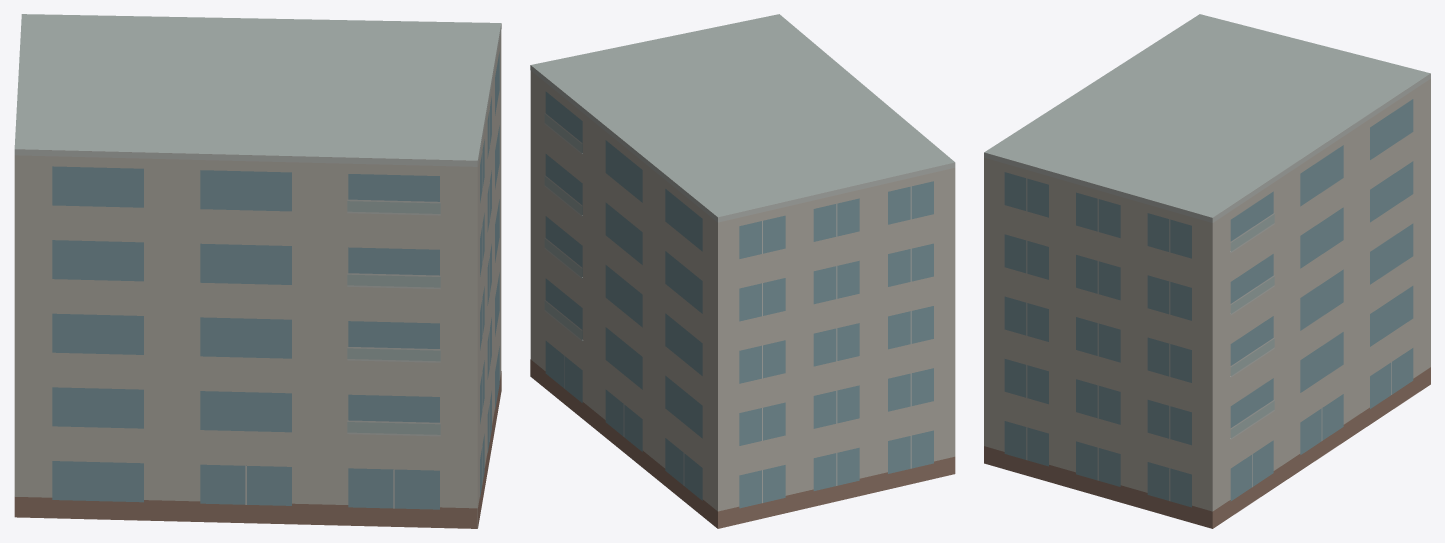
Rendered from survey-upis-32851886.glb.
3 renders of one model, left to right at view 1: azimuth 30°, elevation 25°; view 2: azimuth 150°, elevation 25°; view 3: azimuth 270°, elevation 25°, orthographic. The views are drawn at different scales.
Visible parts, largest first — view 1: survey-upis-32851886.tmp; view 2: survey-upis-32851886.tmp; view 3: survey-upis-32851886.tmp.
Part boxes in pixels (x1,y1,x2,y2): survey-upis-32851886.tmp: (14, 14, 501, 528); survey-upis-32851886.tmp: (530, 14, 955, 528); survey-upis-32851886.tmp: (984, 14, 1430, 528).
Bounding box in the file's own units: 20.39 × 14.5 × 18.88.
